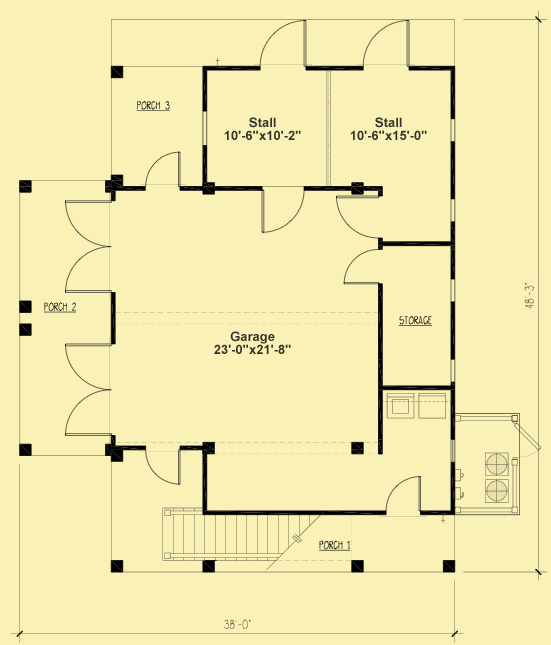door: (61, 343, 116, 437), (63, 197, 114, 292), (357, 18, 412, 68), (331, 193, 385, 241), (258, 19, 308, 69), (259, 183, 305, 234), (141, 150, 184, 192), (143, 443, 185, 485), (384, 473, 424, 517)
stairs: (161, 504, 322, 560)
